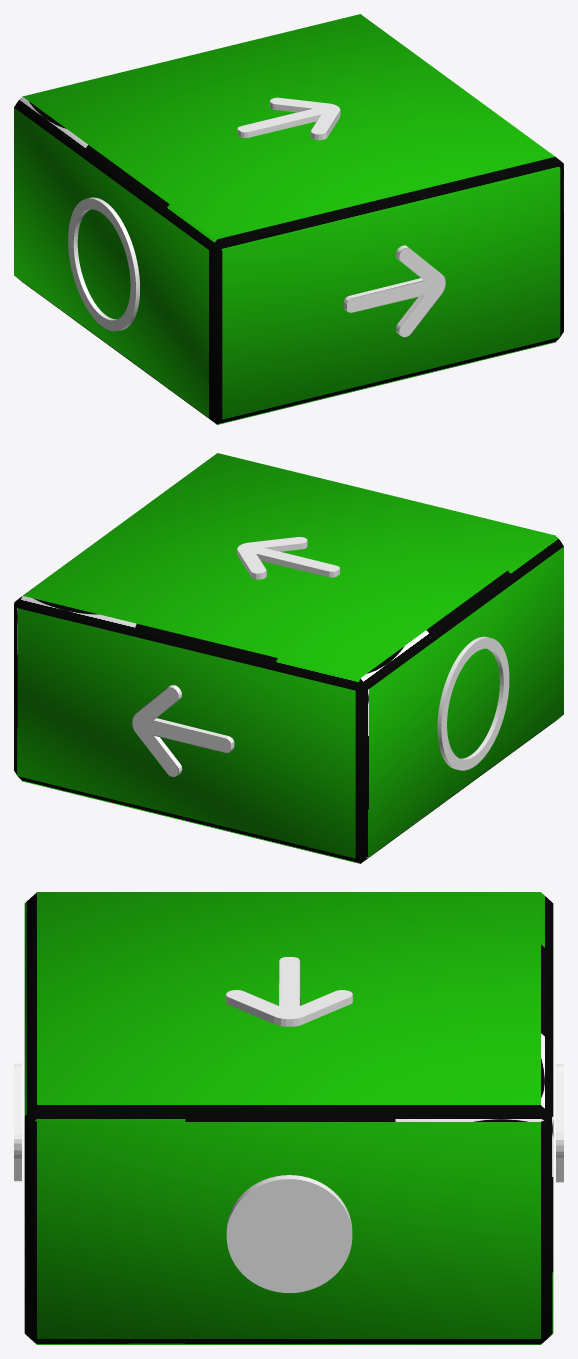
The model's file is BigBoxTapFlowBox_2_1_2_Line_test.fbx.
The picture shows the model from 3 angles, top to bottom: view 1: azimuth 30°, elevation 25°; view 2: azimuth 150°, elevation 25°; view 3: azimuth 270°, elevation 25°; orthographic projection. The views are drawn at different scales.
Visible parts, largest first — view 1: BigBoxTapFlowBox_2_1_2_Line_test; view 2: BigBoxTapFlowBox_2_1_2_Line_test; view 3: BigBoxTapFlowBox_2_1_2_Line_test.
Boxes of the visible parts, box(x1,y1,x2,y2) form: BigBoxTapFlowBox_2_1_2_Line_test: box(14, 14, 563, 424); BigBoxTapFlowBox_2_1_2_Line_test: box(14, 453, 563, 863); BigBoxTapFlowBox_2_1_2_Line_test: box(14, 892, 563, 1344).
Size of the model in its own units: 2.2 by 1.14 by 2.18.
Materials: 1 (1 with a texture image).
